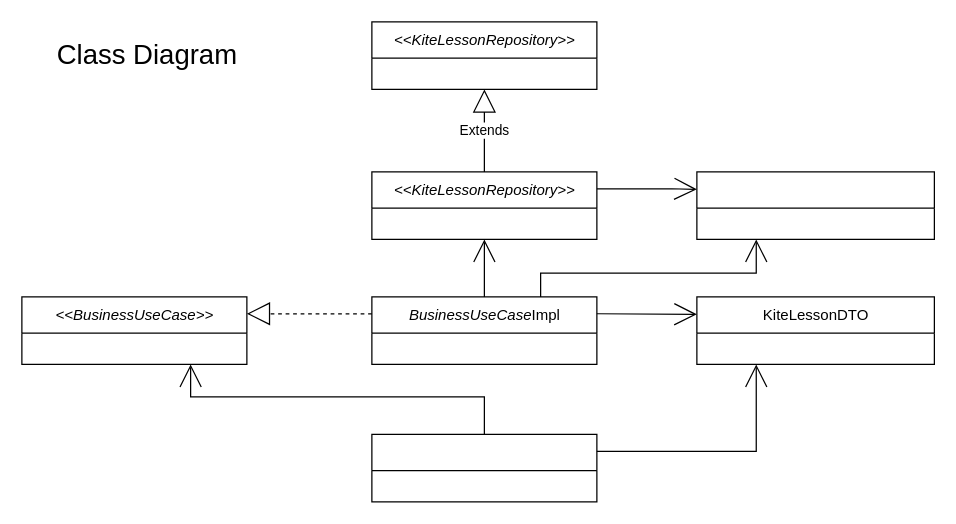
Some shapes in this 956 by 524 pixel diagram are drawn without their labels. Here are the shapes that lost their labels. From the top down, the centre of each, then its label:
At point (815, 205): "KiteLesson".
At point (484, 467): "KiteLessonController".
